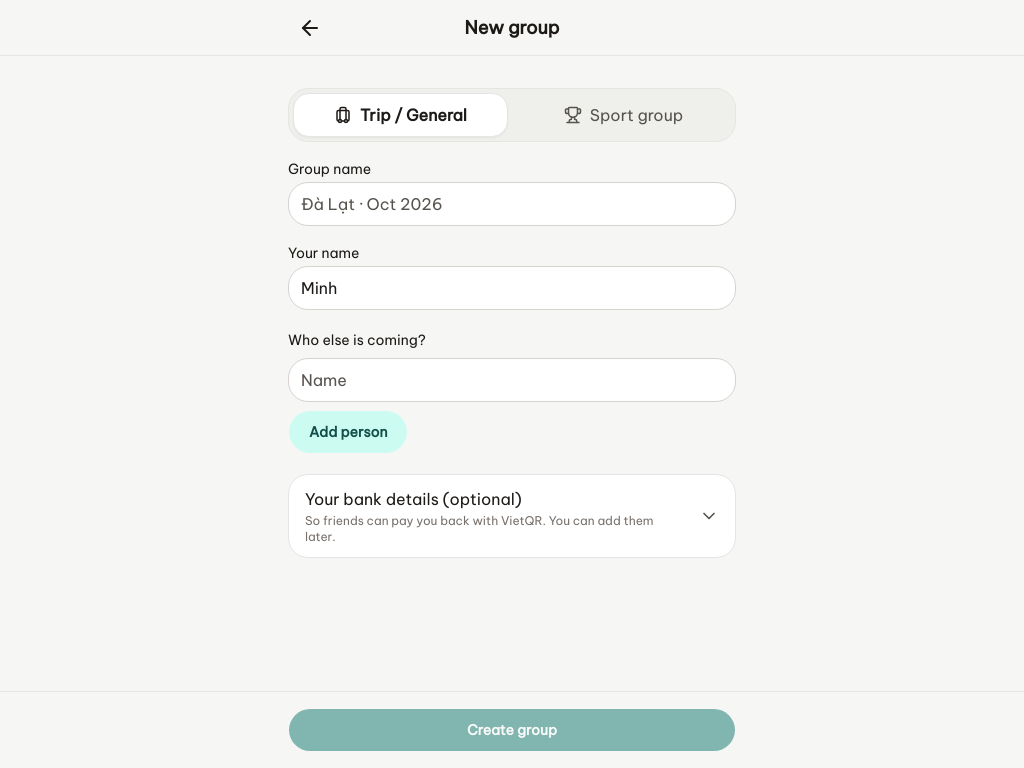
Test case: CreateTrip people › Backspace on an empty line removes it
Expected: the field labelled "Your name" is shown, [288,266,736,310]
Click the dropdown with placeholder "Name" at (512,380), box [288,358,736,402]
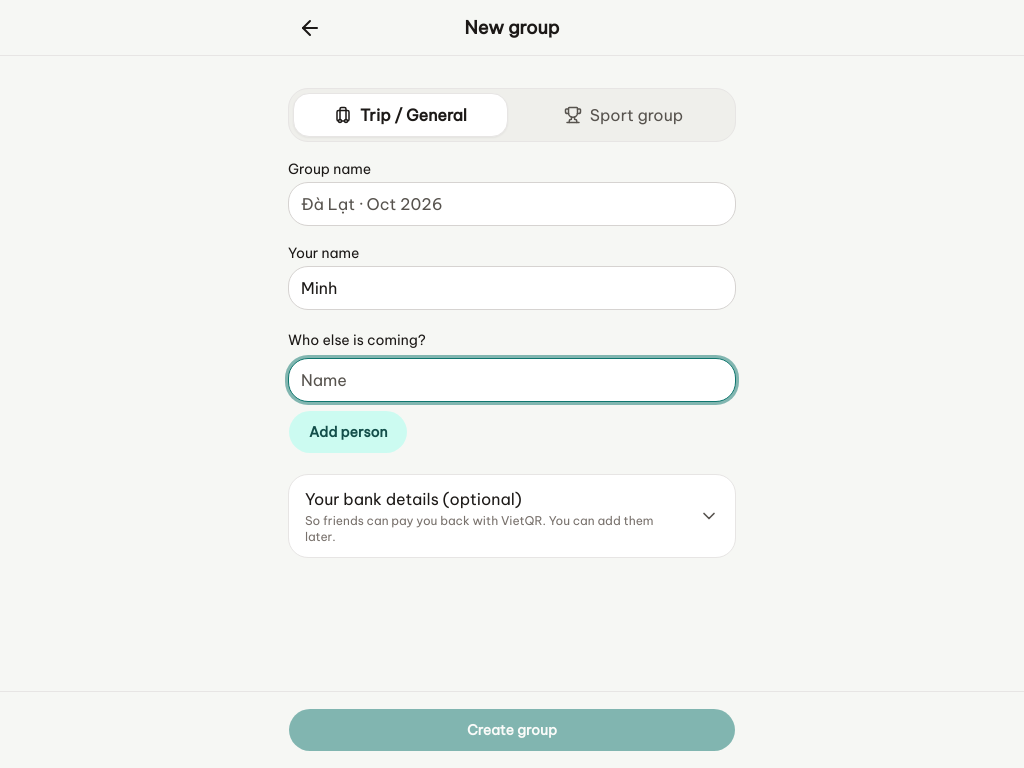
Press Backspace
Type "An" into the dropdown with placeholder "Name" at (512,380), box [288,358,736,402]
Then press Enter
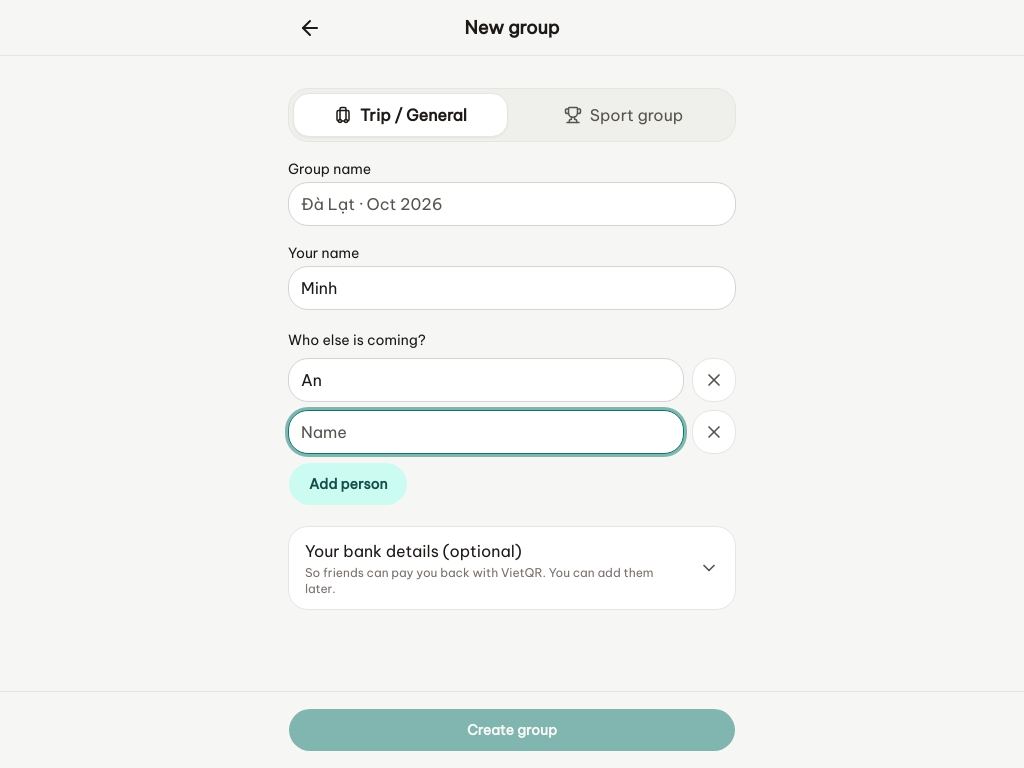
Now the number of dropdowns with placeholder "Name" is 2, box [288,358,684,402]; [288,410,684,454]
Press Backspace
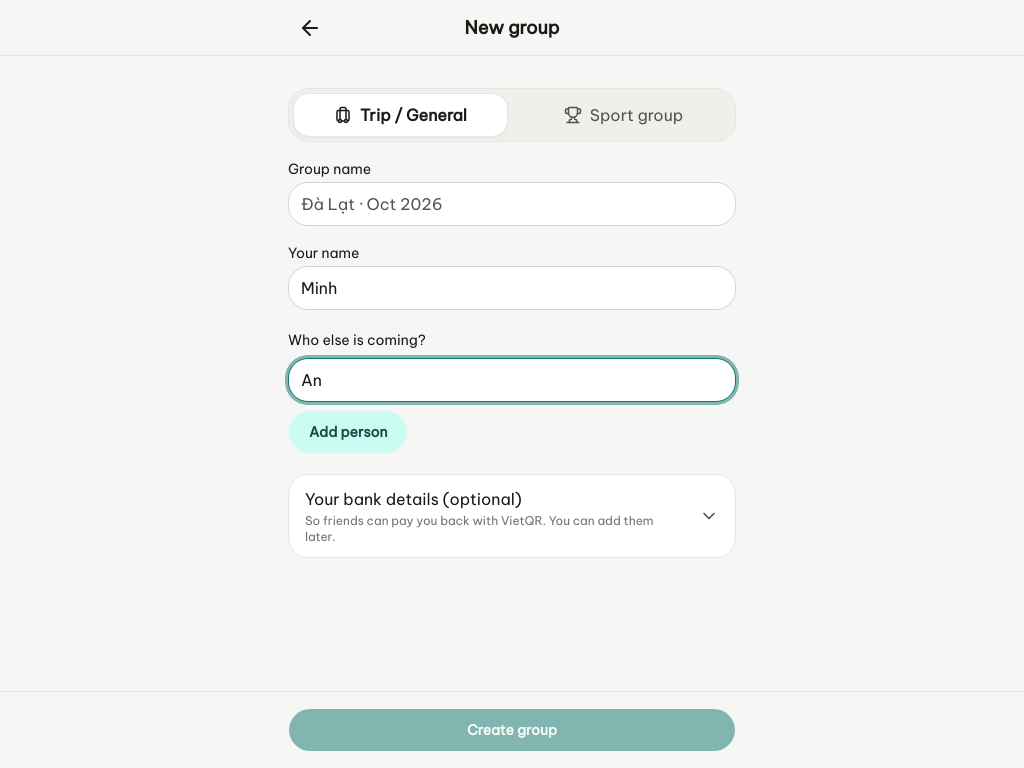
Press Backspace
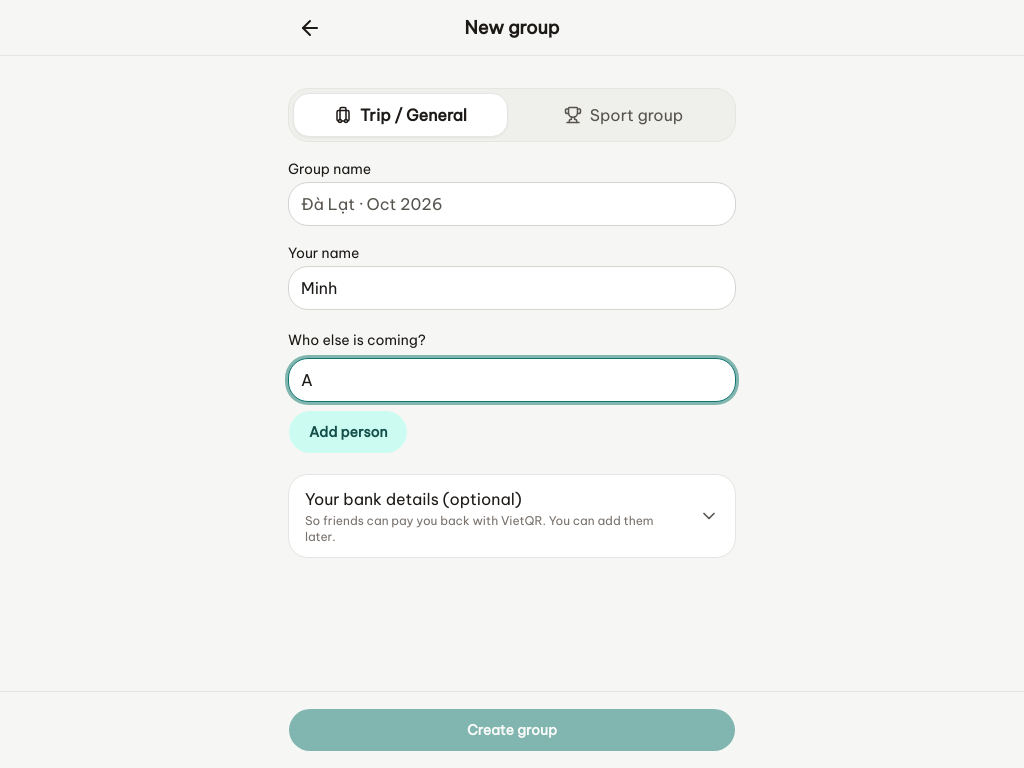
Now the dropdown with placeholder "Name" holds "A", box [288,358,736,402]
